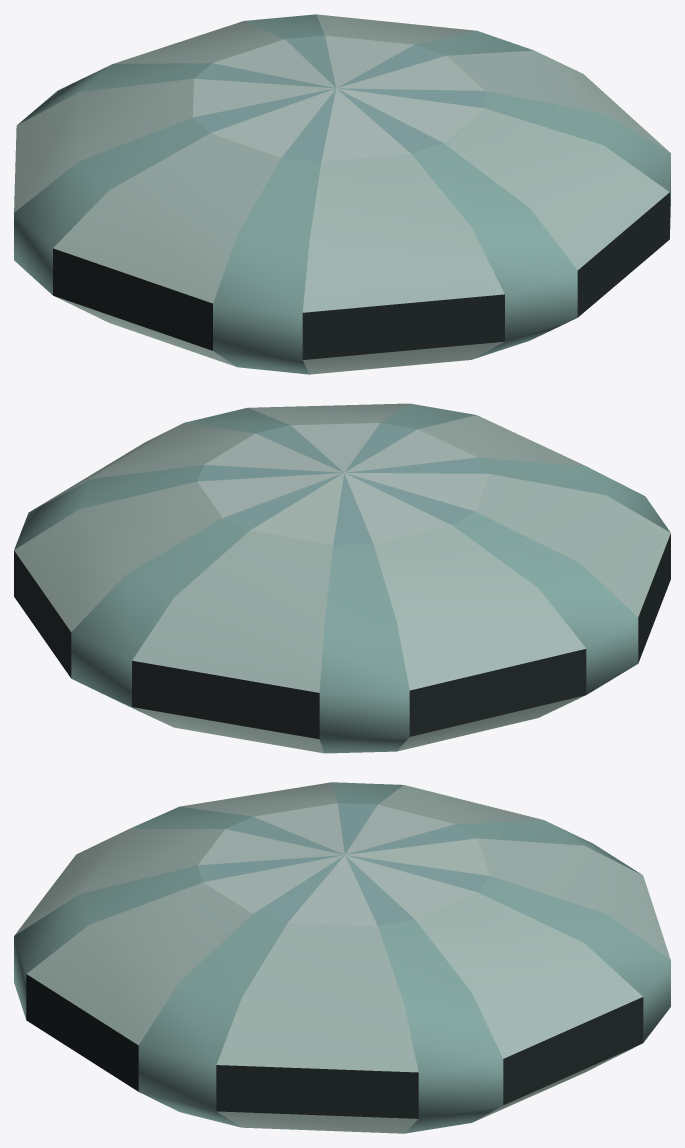
File: sky_droid.dae
3 views of the same model, one above another, from view 1: azimuth 30°, elevation 25°; view 2: azimuth 150°, elevation 25°; view 3: azimuth 270°, elevation 25° (orthographic). The views are drawn at different scales.
Visible parts, largest first — view 1: $dummy_node (×5); view 2: $dummy_node (×5); view 3: $dummy_node (×5).
Part boxes in pixels (x1,y1,x2,y2): $dummy_node (×5): [14, 14, 670, 374]; $dummy_node (×5): [14, 403, 670, 753]; $dummy_node (×5): [14, 782, 670, 1133].
Bounding box in the file's own units: 3.85 × 1.36 × 3.87.
